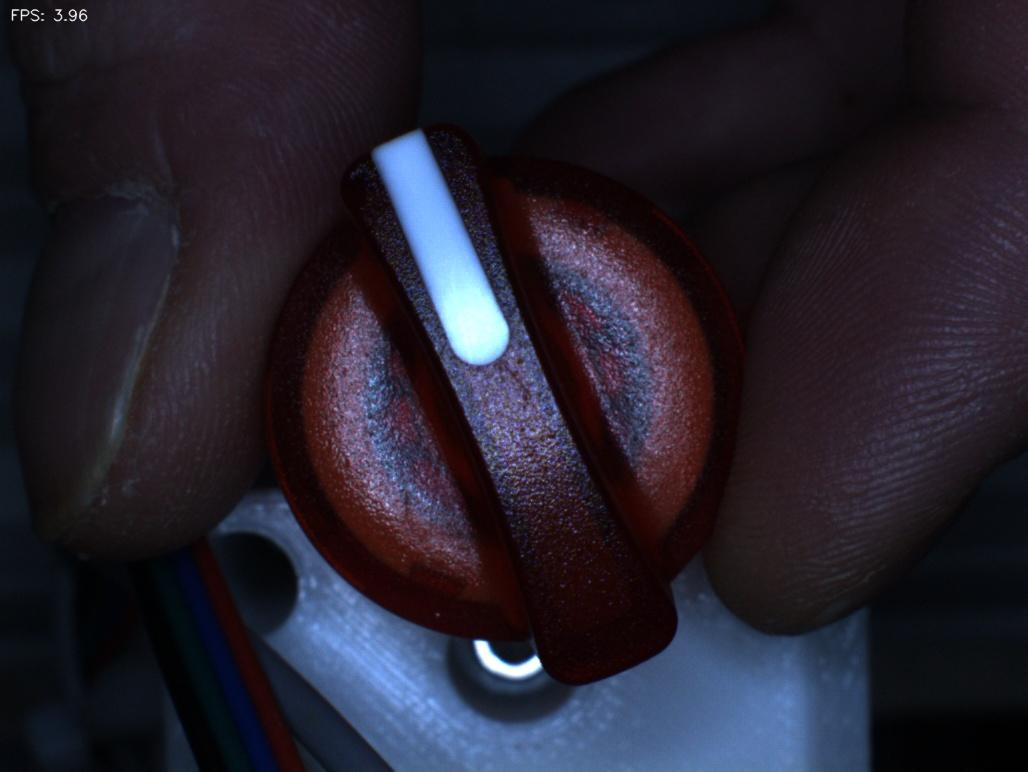Choc: (304, 142, 406, 232)
